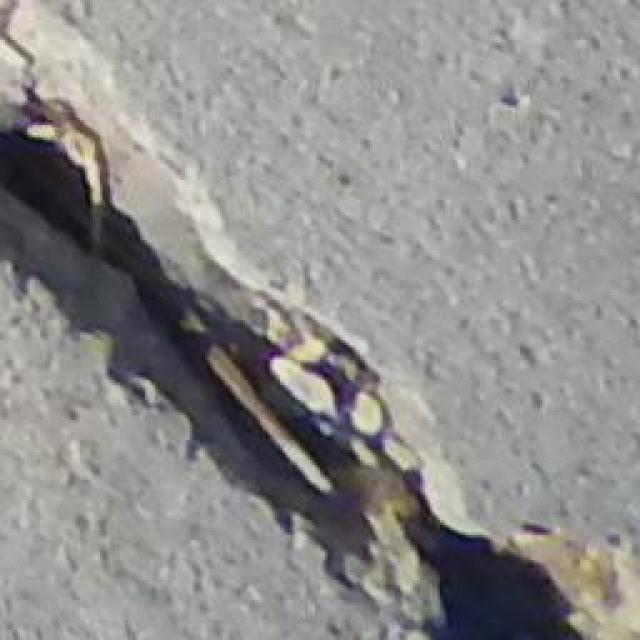concrete-crack: (0, 0, 598, 640)
